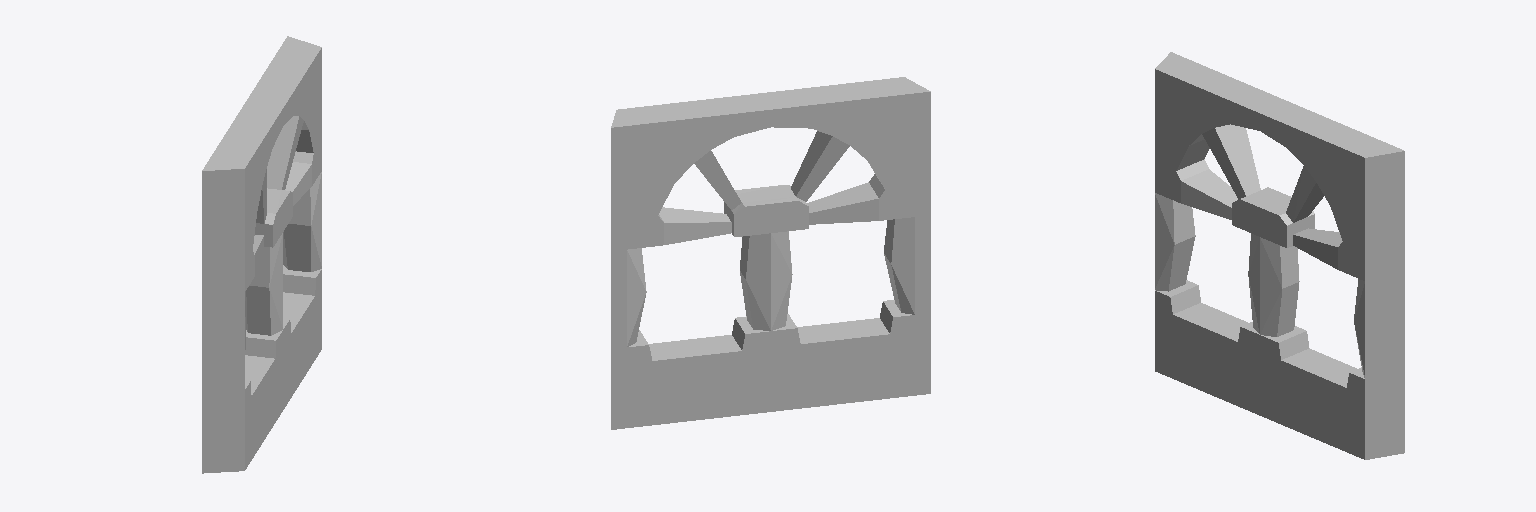
File: P_Modul_03_Wall03.obj
The picture shows the model from 3 angles: view 1: azimuth 30°, elevation 25°; view 2: azimuth 150°, elevation 25°; view 3: azimuth 270°, elevation 25°; orthographic projection.
Parts seen in each view (by area): view 1: P_Modul_03_Wall03; view 2: P_Modul_03_Wall03; view 3: P_Modul_03_Wall03.
Part boxes in pixels (bbox=[...]): P_Modul_03_Wall03: bbox=[202, 36, 321, 473]; P_Modul_03_Wall03: bbox=[611, 77, 930, 429]; P_Modul_03_Wall03: bbox=[1155, 52, 1404, 459].
Size of the model in its own units: 5.48 by 7.28 by 5.47.